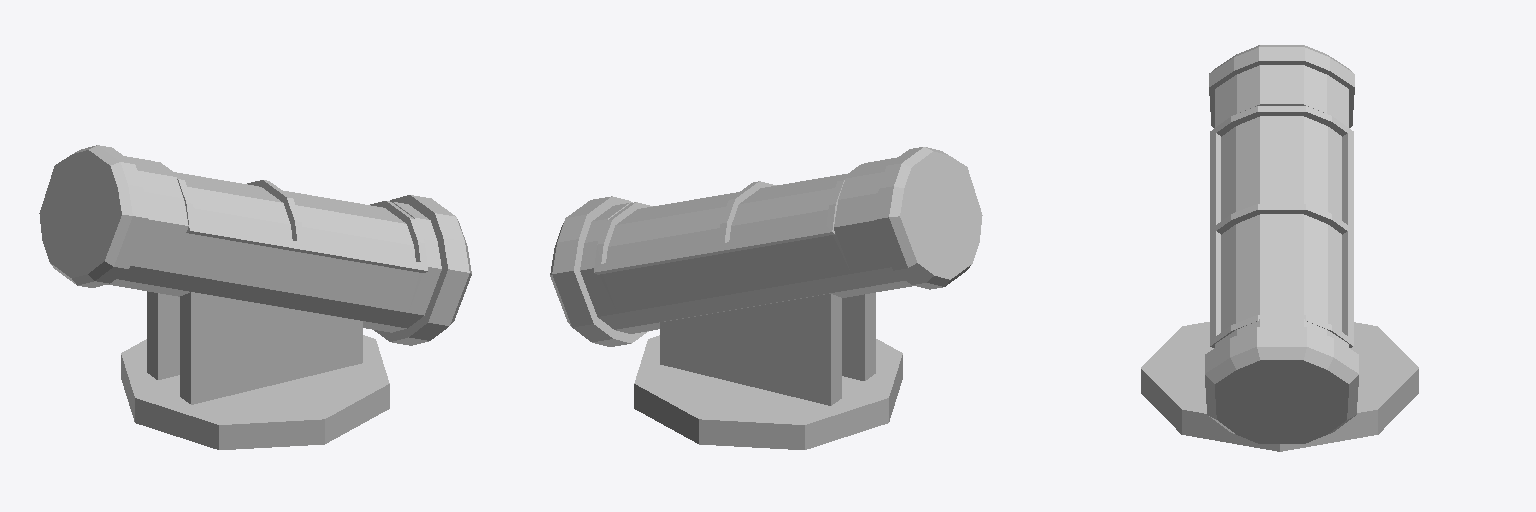
The model's file is Sleep_Camera.obj.
3 renders of one model, left to right at view 1: azimuth 30°, elevation 25°; view 2: azimuth 150°, elevation 25°; view 3: azimuth 270°, elevation 25°, orthographic.
Parts seen in each view (by area): view 1: polySurface1 Camara1, Camara1 pCylinder2, Camara1 pCube31, Camara1 polySurface2, Camara1 pCube41; view 2: polySurface1 Camara1, Camara1 pCylinder2, Camara1 polySurface2, Camara1 pCube41, Camara1 pCube31; view 3: Camara1 polySurface2, polySurface1 Camara1, Camara1 pCylinder2.
Boxes of the visible parts, <box> form: polySurface1 Camara1: <box>39,145,471,345</box>; Camara1 pCylinder2: <box>121,335,389,449</box>; Camara1 pCube31: <box>180,292,362,404</box>; Camara1 polySurface2: <box>157,162,427,272</box>; Camara1 pCube41: <box>147,291,179,379</box>; polySurface1 Camara1: <box>550,147,982,346</box>; Camara1 pCylinder2: <box>634,335,902,449</box>; Camara1 polySurface2: <box>594,163,865,274</box>; Camara1 pCube41: <box>660,294,841,405</box>; Camara1 pCube31: <box>842,293,875,380</box>; Camara1 polySurface2: <box>1210,106,1353,347</box>; polySurface1 Camara1: <box>1205,45,1358,443</box>; Camara1 pCylinder2: <box>1141,322,1418,451</box>.
Size of the model in its own units: 323 by 218 by 200.